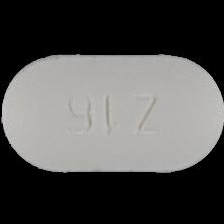68084-347: (0, 0, 224, 224)
